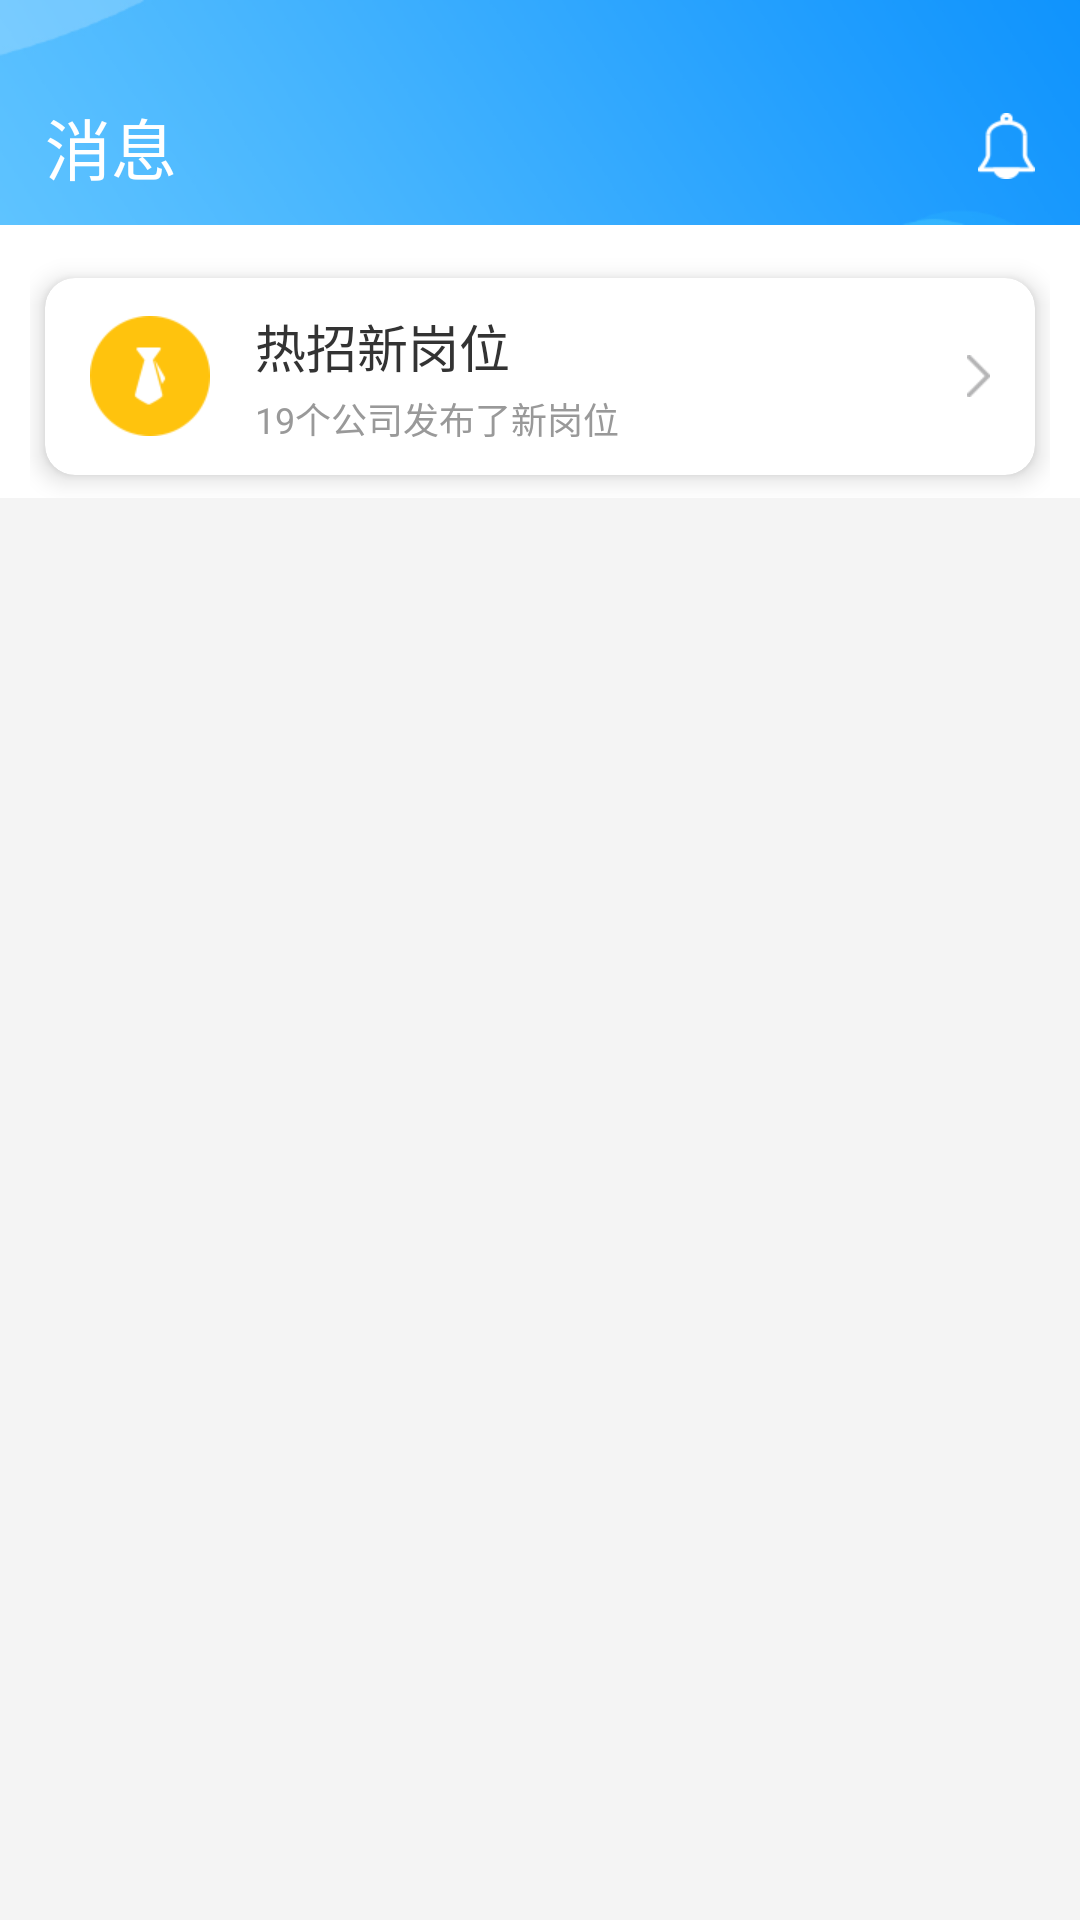

Icon bounding boxes for this 1080x1920 phone screenshot, format bbox=[x1, y1, x2, y2]:
ringtone: bbox=[978, 113, 1035, 179]
